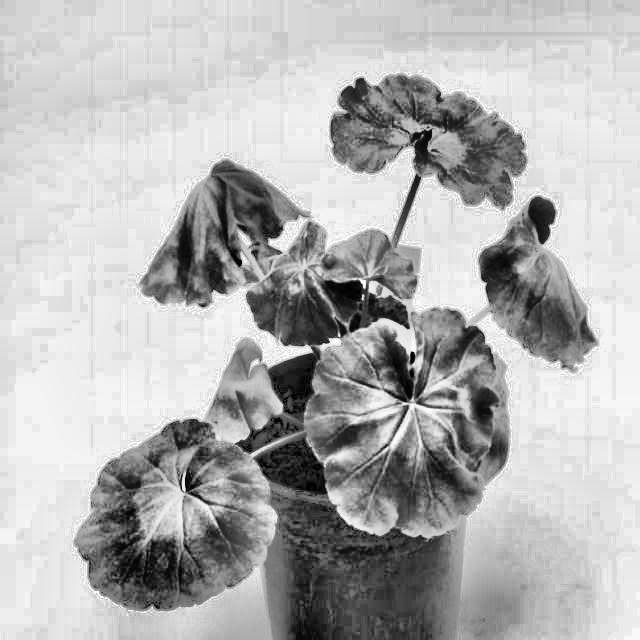plants: (65, 63, 628, 639), (127, 150, 323, 325), (472, 206, 623, 372), (182, 339, 286, 442)
